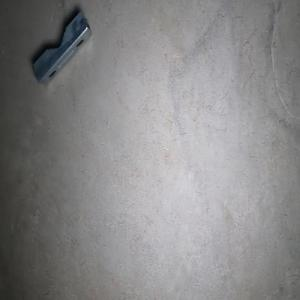ClampPart: (31, 9, 93, 87)
